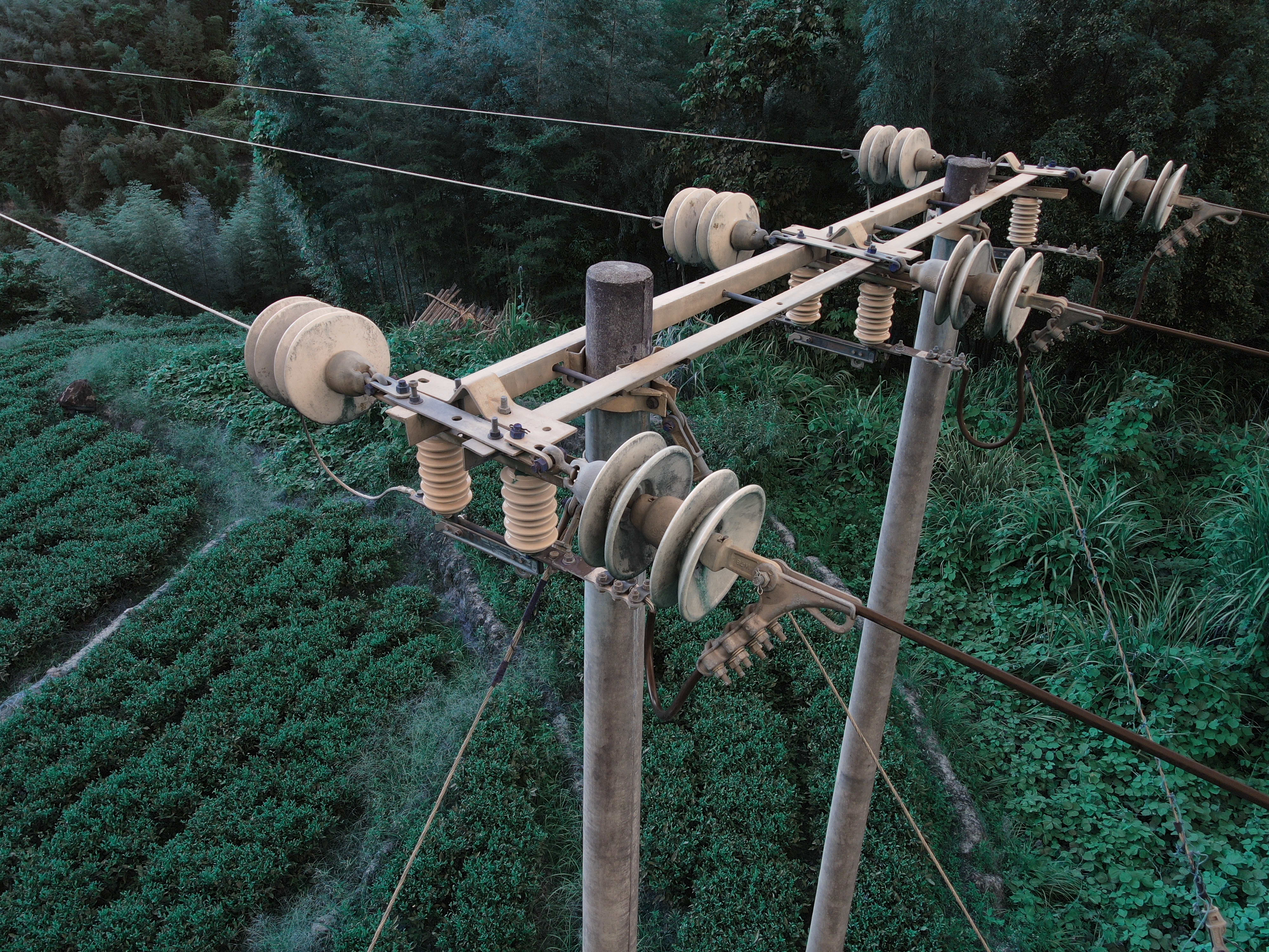severe_soiling_no_discharge_whole: (560, 425, 768, 619), (239, 291, 396, 424), (911, 234, 1045, 342), (662, 183, 765, 270), (857, 121, 942, 191)
